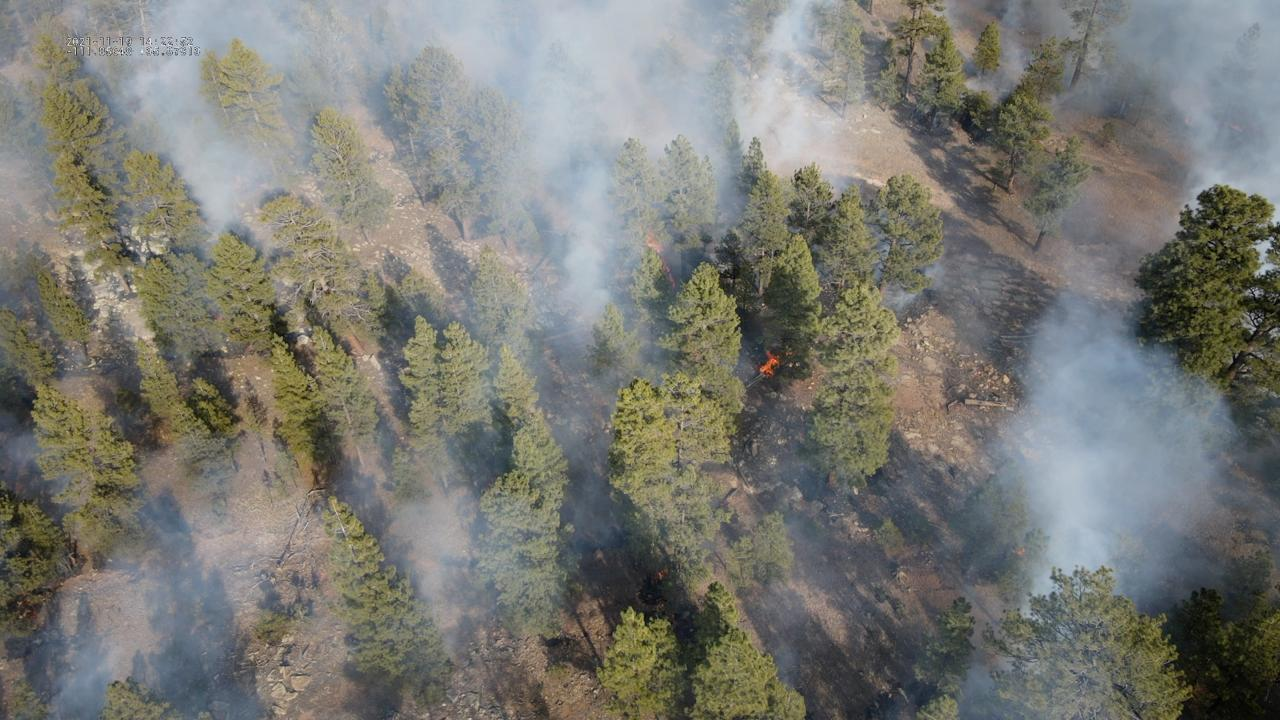fire: (756, 351, 781, 378), (644, 231, 664, 254), (661, 261, 676, 290), (654, 568, 669, 580), (1017, 545, 1029, 557)
smoke: (0, 0, 1280, 720)
